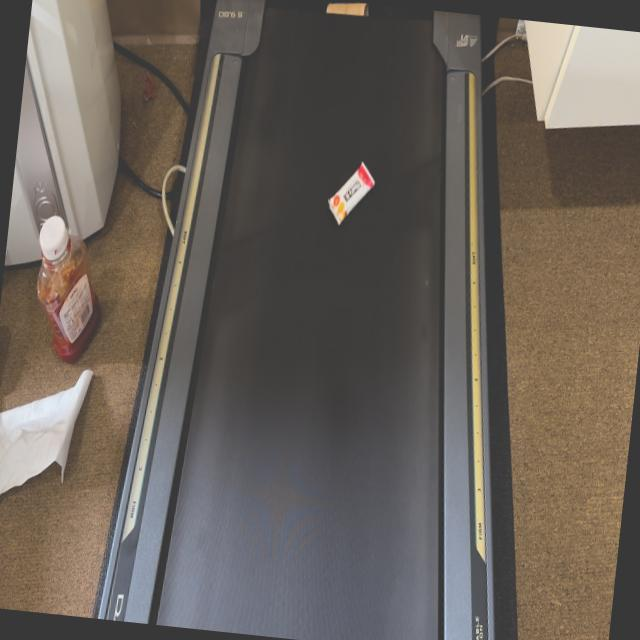Trash: (322, 150, 379, 231)
